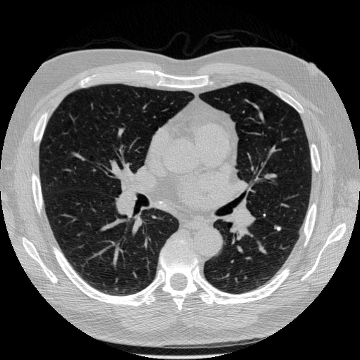nodule: (275, 225, 281, 231)
